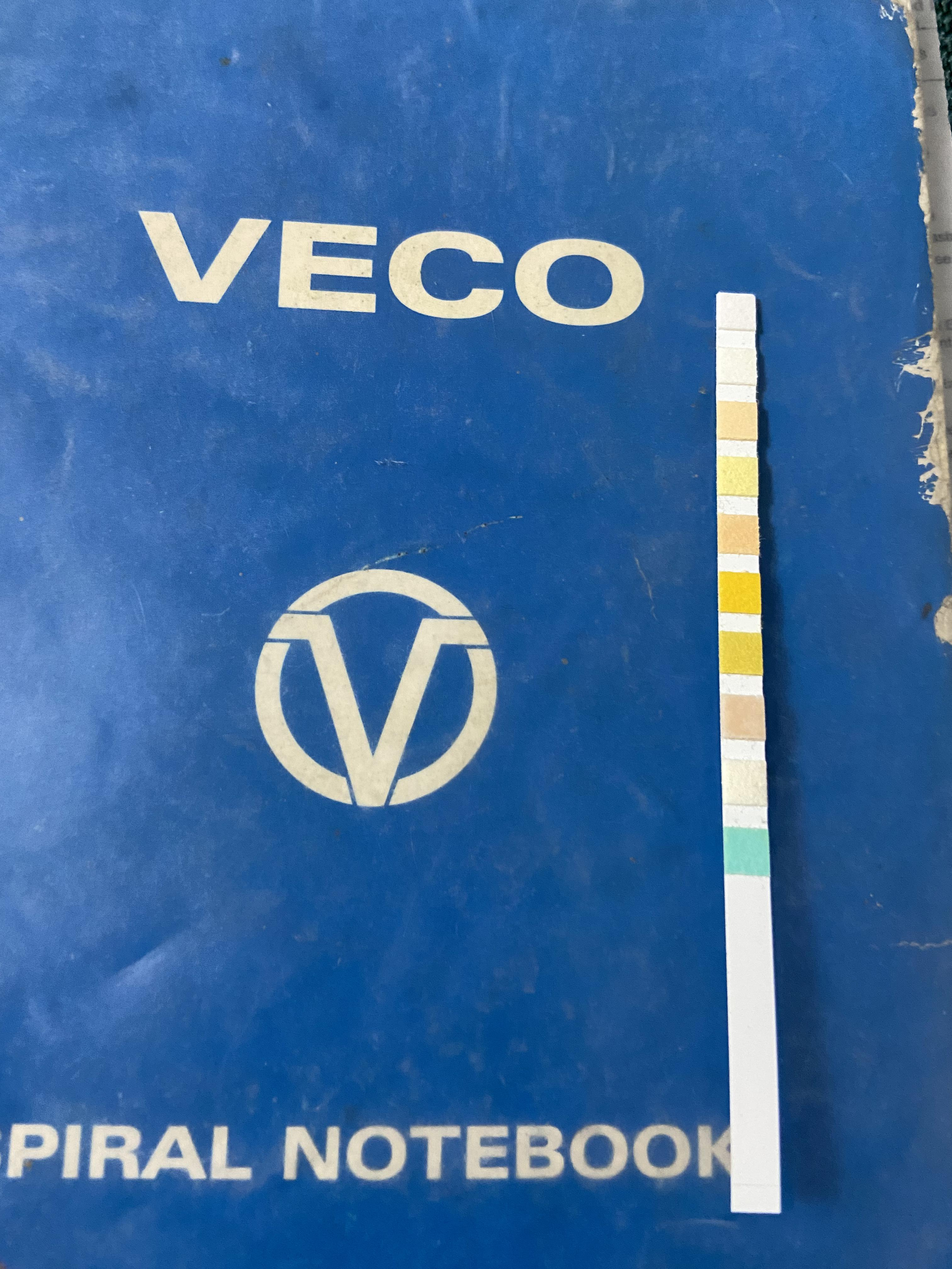Bilirubin: (723, 763, 766, 803)
Blood: (721, 575, 759, 611)
Glucose: (725, 831, 768, 873)
Ketone: (722, 698, 762, 737)
Leukocytes: (717, 295, 755, 329)
Nitrite: (719, 349, 756, 384)
Protein: (719, 458, 756, 493)
SpGravity: (721, 635, 761, 672)
Urobilinogen: (719, 404, 756, 438)
pH: (719, 516, 757, 553)
strip: (716, 292, 781, 1214)
